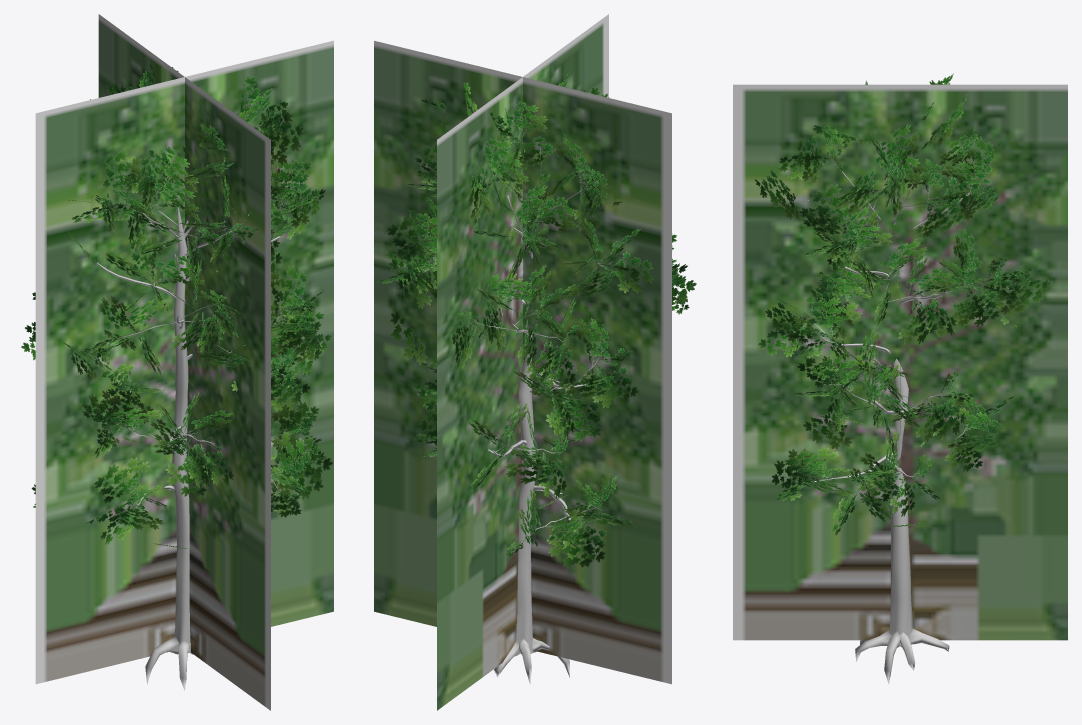
Rendered from Tree-Maple0A.fbx.
The picture shows the model from 3 angles, left to right: view 1: azimuth 30°, elevation 25°; view 2: azimuth 150°, elevation 25°; view 3: azimuth 270°, elevation 25°; orthographic projection. The views are drawn at different scales.
Parts seen in each view (by area): view 1: Billboard-MapleA, Tree-Maple0A_LOD0; view 2: Billboard-MapleA, Tree-Maple0A_LOD0; view 3: Billboard-MapleA, Tree-Maple0A_LOD0.
Part boxes in pixels (box(x1,y1,x2,y2)): Billboard-MapleA: box(35, 14, 333, 710); Tree-Maple0A_LOD0: box(21, 62, 332, 690); Billboard-MapleA: box(374, 14, 671, 710); Tree-Maple0A_LOD0: box(376, 72, 696, 684); Billboard-MapleA: box(733, 84, 1067, 640); Tree-Maple0A_LOD0: box(754, 73, 1051, 684).
Size of what is drawn, in the model's own units: 1513 by 2900 by 1513.
